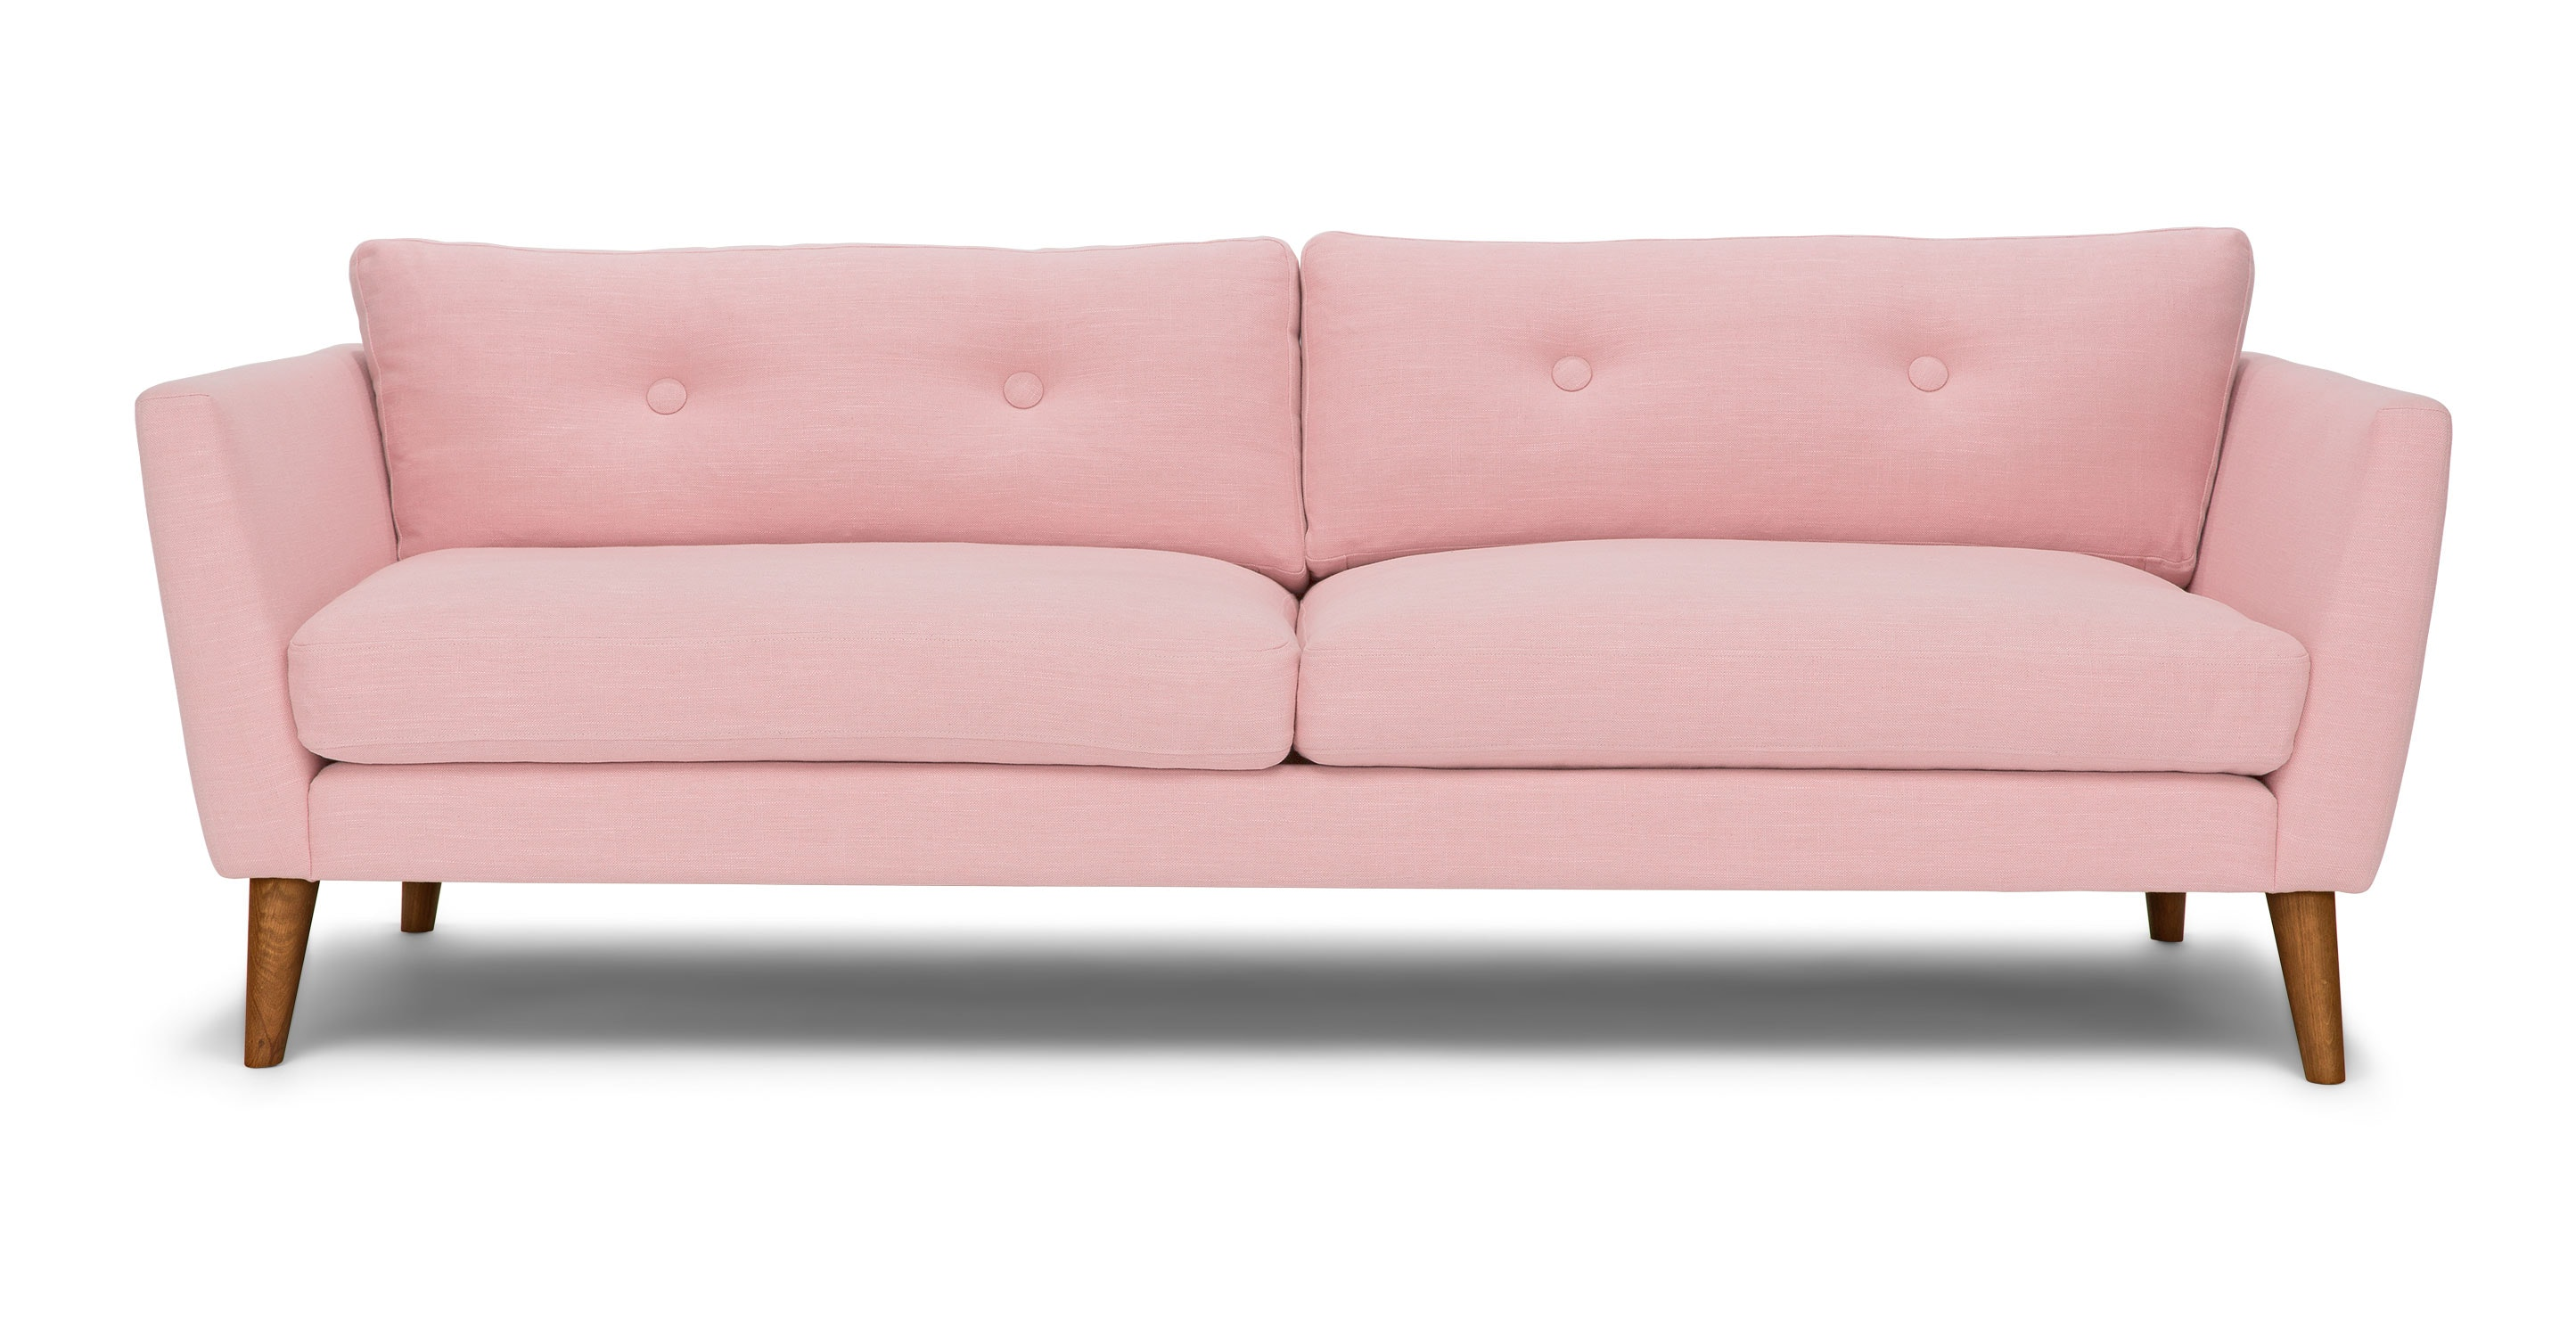chairs: (85, 213, 2482, 1117)
